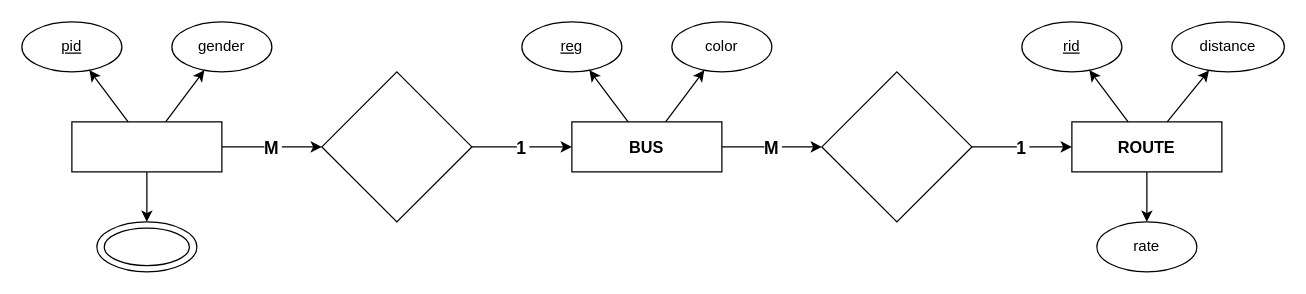
This 1306x294 diagram has some shape labels left out. Each missing label, with the box of its shape:
ASSIGNED TO: (321, 71, 472, 222)
PASSENGER: (71, 121, 222, 172)
phone: (103, 227, 189, 266)
TRAVELS ON: (821, 71, 972, 222)
